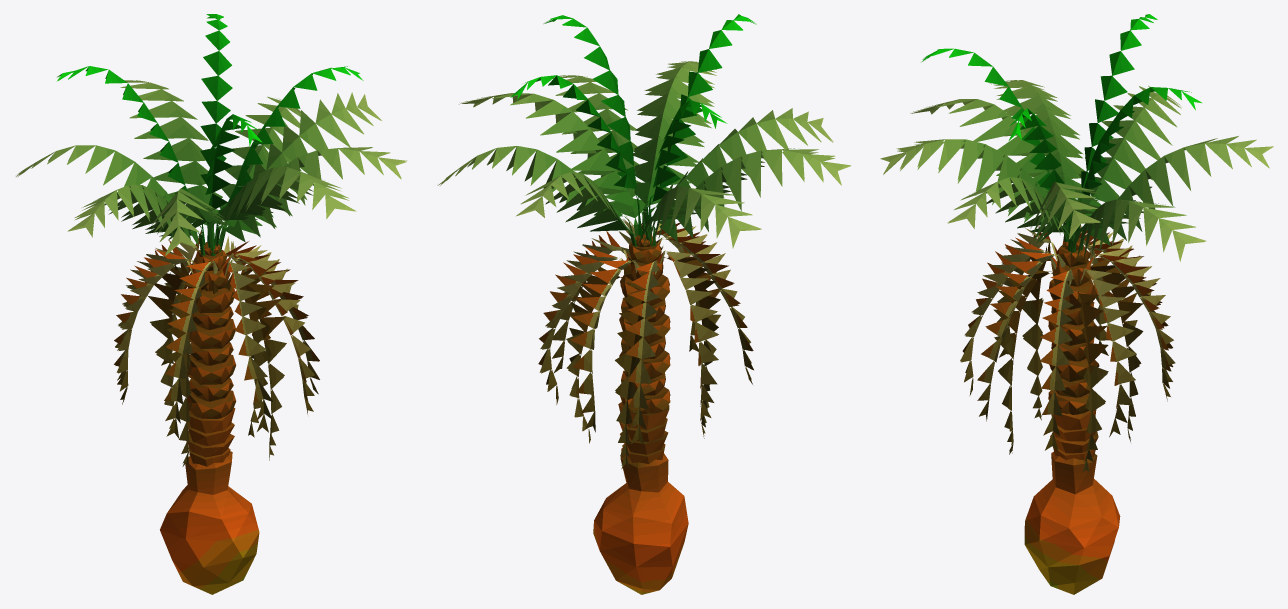
Rendered from ExoticPalmYoung.glb.
3 renders of one model, left to right at view 1: azimuth 30°, elevation 25°; view 2: azimuth 150°, elevation 25°; view 3: azimuth 270°, elevation 25°, orthographic. The views are drawn at different scales.
Visible parts, largest first — view 1: ExoticPalmYoungLeaves, ExoticPalmYoungFalenLeave.001, BExticaPalmYungGroundBase.004, ExoticPalmYoungYoungLeaves, ExoticPalmYoungExtraBark, ExoticPalmYoungDeathLeaves, ExoticPalmYoungBasicBark; view 2: ExoticPalmYoungLeaves, ExoticPalmYoungFalenLeave.001, BExticaPalmYungGroundBase.004, ExoticPalmYoungYoungLeaves, ExoticPalmYoungDeathLeaves, ExoticPalmYoungExtraBark, ExoticPalmYoungBasicBark; view 3: ExoticPalmYoungLeaves, ExoticPalmYoungFalenLeave.001, BExticaPalmYungGroundBase.004, ExoticPalmYoungDeathLeaves, ExoticPalmYoungYoungLeaves, ExoticPalmYoungExtraBark, ExoticPalmYoungBasicBark.
Part boxes in pixels (x1,y1,x2,y2): ExoticPalmYoungLeaves: (16,80,407,256); ExoticPalmYoungFalenLeave.001: (114,230,319,438); BExticaPalmYungGroundBase.004: (160,451,259,594); ExoticPalmYoungYoungLeaves: (57,14,363,244); ExoticPalmYoungExtraBark: (187,242,236,418); ExoticPalmYoungDeathLeaves: (147,261,286,466); ExoticPalmYoungBasicBark: (186,408,235,466); ExoticPalmYoungLeaves: (437,61,851,248); ExoticPalmYoungFalenLeave.001: (538,215,753,444); BExticaPalmYungGroundBase.004: (593,448,688,594); ExoticPalmYoungYoungLeaves: (510,14,756,238); ExoticPalmYoungDeathLeaves: (566,235,721,469); ExoticPalmYoungExtraBark: (619,233,670,414); ExoticPalmYoungBasicBark: (618,402,669,463); ExoticPalmYoungLeaves: (880,80,1273,261); ExoticPalmYoungFalenLeave.001: (960,225,1175,451); BExticaPalmYungGroundBase.004: (1024,451,1120,594); ExoticPalmYoungDeathLeaves: (993,243,1143,472); ExoticPalmYoungYoungLeaves: (921,14,1201,235); ExoticPalmYoungExtraBark: (1048,239,1099,414); ExoticPalmYoungBasicBark: (1050,409,1098,460).
Bounding box in the file's own units: 5 × 7.47 × 5.
Materials: 1 (1 with a texture image).
